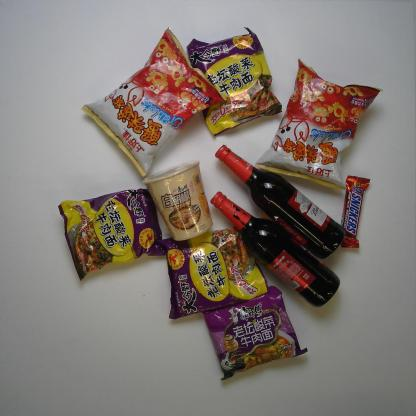Alcohol: (207, 187, 342, 311), (211, 141, 348, 262)
Chocolate: (336, 172, 374, 254)
Instant Noodles: (152, 223, 271, 325), (183, 24, 286, 138), (55, 184, 168, 287), (198, 283, 312, 384), (138, 156, 215, 244)
Puffed Food: (77, 24, 230, 181), (250, 54, 385, 192)
